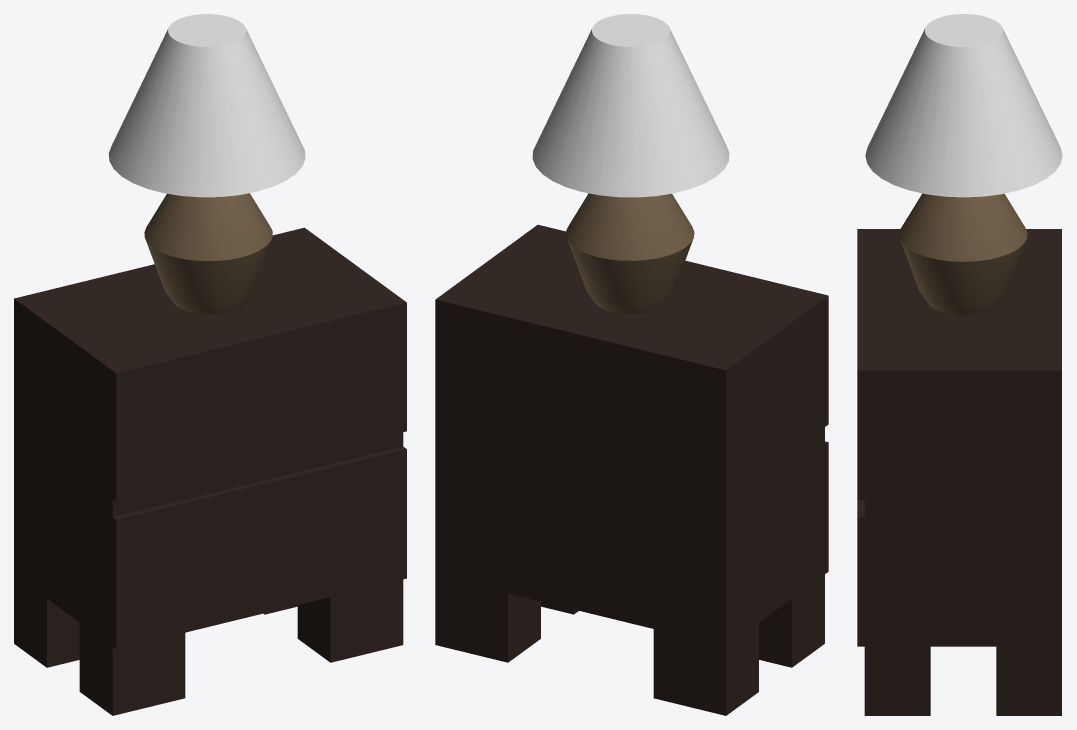
Rendered from Lampara.fbx.
The picture shows the model from 3 angles, left to right: view 1: azimuth 30°, elevation 25°; view 2: azimuth 150°, elevation 25°; view 3: azimuth 270°, elevation 25°; orthographic projection.
Visible parts, largest first — view 1: Cajones, Base.001; view 2: Cajones, Base.001; view 3: Cajones, Base.001.
Part boxes in pixels (x1,y1,x2,y2): Cajones: (14, 227, 406, 715); Base.001: (108, 14, 305, 314); Cajones: (435, 224, 828, 715); Base.001: (532, 14, 729, 313); Cajones: (857, 229, 1061, 715); Base.001: (865, 14, 1062, 314).
Size of the model in its own units: 340 by 687 by 208.
